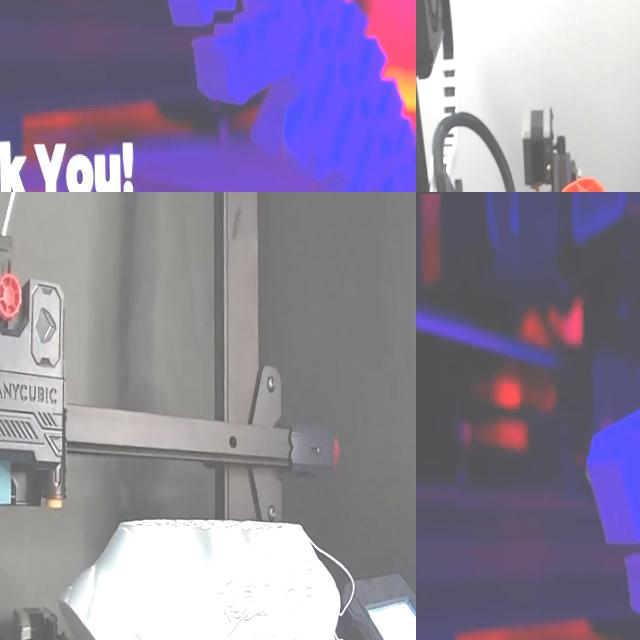spaghetti: (216, 523, 396, 640)
